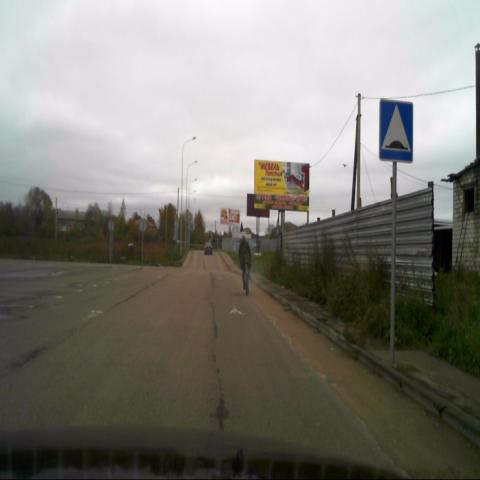5_20: (380, 96, 414, 164)
